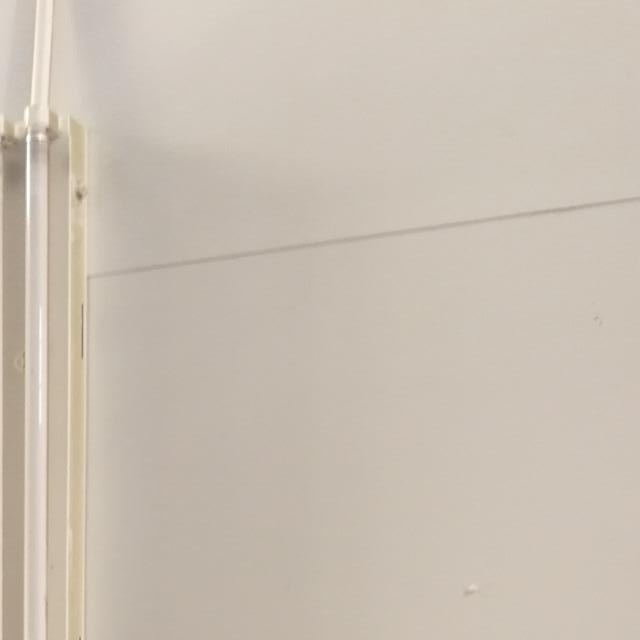fluorescent tube: (0, 69, 135, 640)
